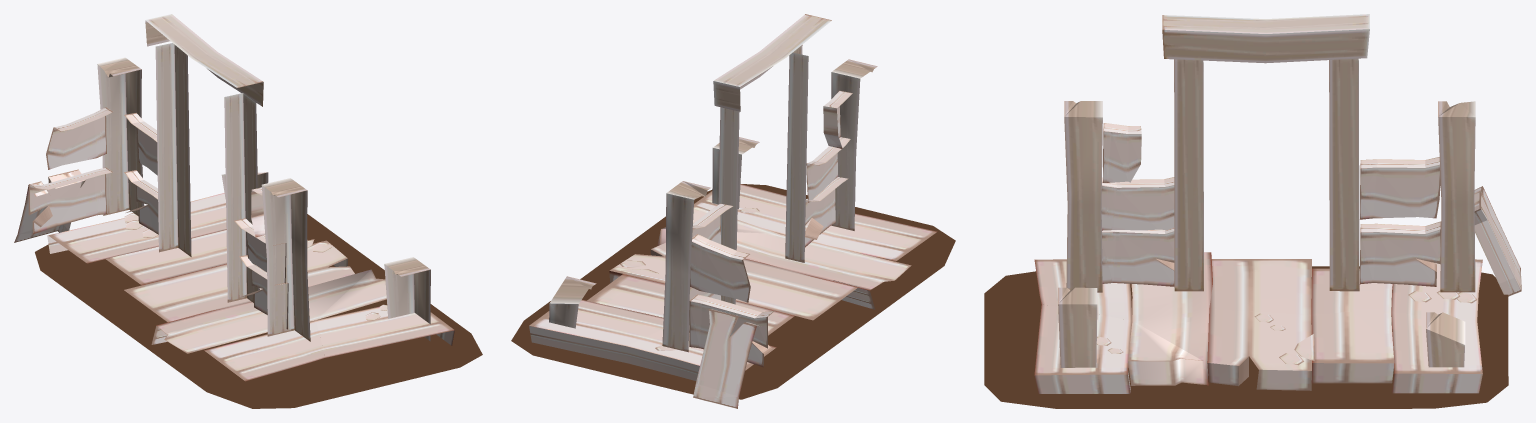
Rendered from Beach_ruin_wood_1.fbx.
3 renders of one model, left to right at view 1: azimuth 30°, elevation 25°; view 2: azimuth 150°, elevation 25°; view 3: azimuth 270°, elevation 25°, orthographic. The views are drawn at different scales.
Parts seen in each view (by area): view 1: RuinWood1, ShadowSquareDark; view 2: RuinWood1, ShadowSquareDark; view 3: RuinWood1, ShadowSquareDark.
Part boxes in pixels (x1=…): RuinWood1: x1=14, y1=14, x2=454, y2=381; ShadowSquareDark: x1=35, y1=214, x2=482, y2=408; RuinWood1: x1=529, y1=14, x2=937, y2=408; ShadowSquareDark: x1=511, y1=184, x2=955, y2=399; RuinWood1: x1=1034, y1=14, x2=1521, y2=393; ShadowSquareDark: x1=984, y1=266, x2=1508, y2=408.
Bounding box in the file's own units: 2.27 × 2.18 × 3.6.
2 materials, 1 textured.
